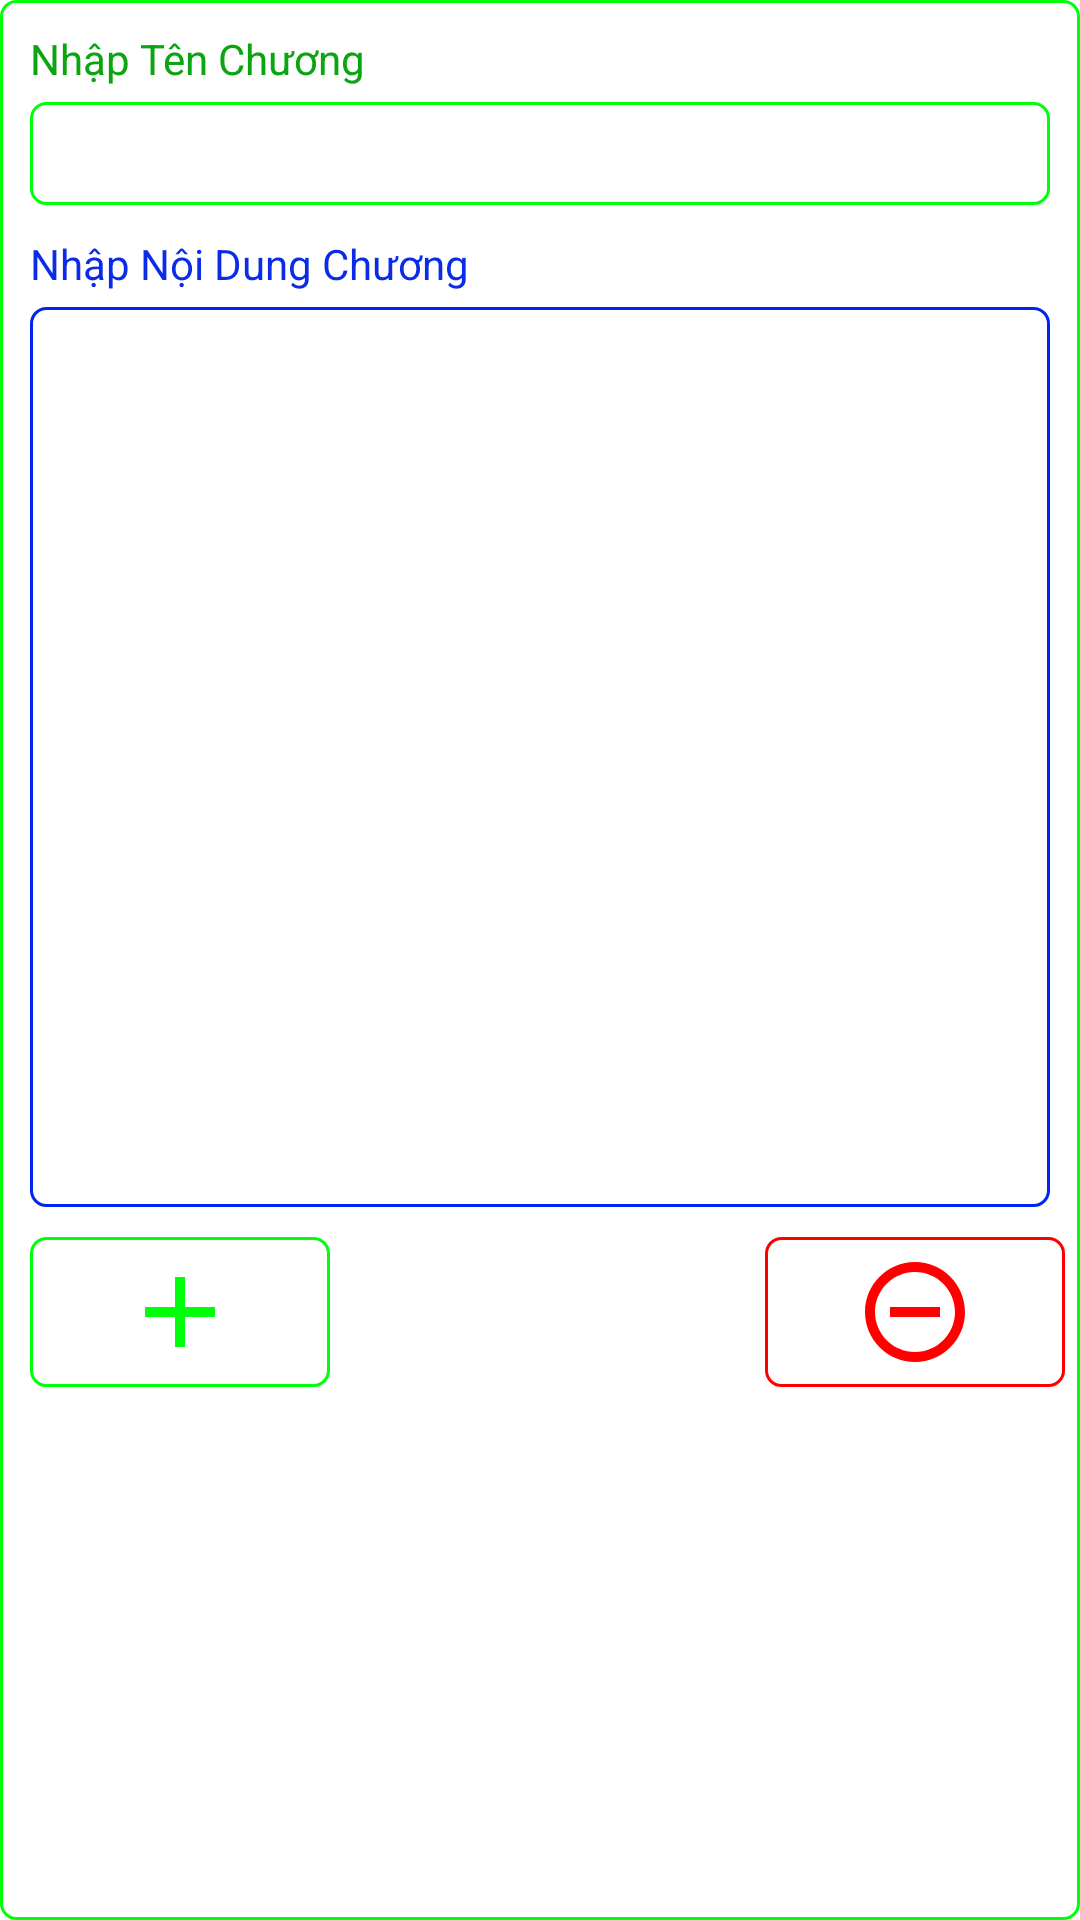

Icon bounding boxes for this 1080 x 1920 phone screenshot, format (x1, y1, x2, y2):
add: (30, 1237, 330, 1387)
iconcancel: (765, 1237, 1065, 1387)
